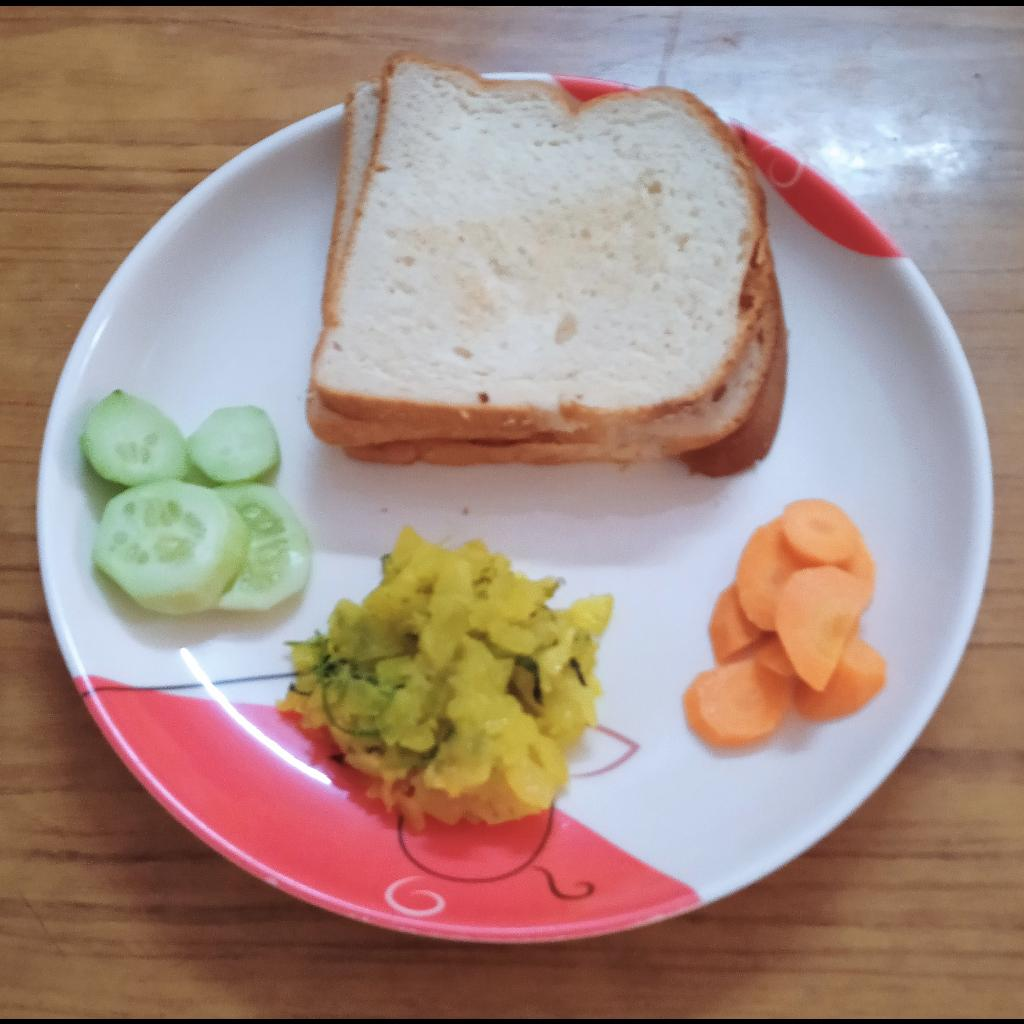bread: (307, 48, 791, 478)
carrot: (675, 495, 886, 746)
cucumber: (75, 390, 312, 613)
papaya: (288, 527, 612, 824)
